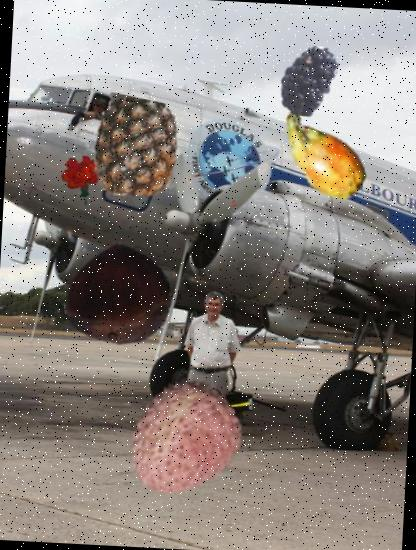Cactus: (265, 100, 376, 211)
Chestnut: (60, 237, 174, 350)
Lychee: (118, 376, 246, 503)
Mulberry: (272, 43, 348, 119)
Pineapple: (84, 96, 189, 200)
